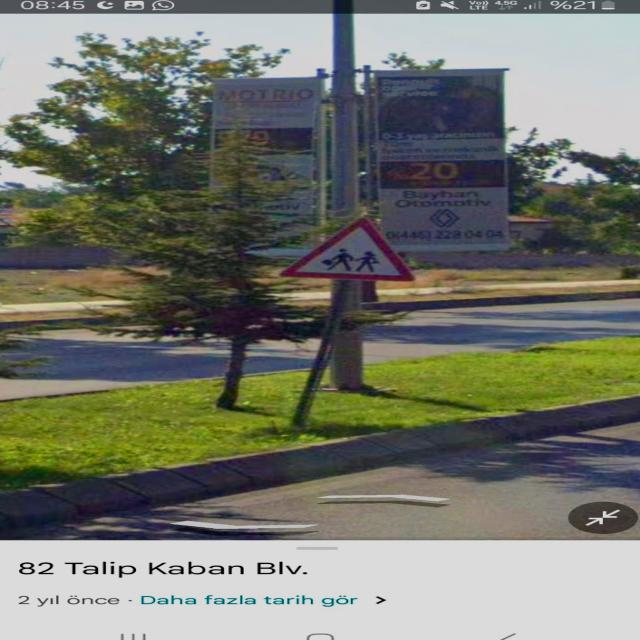okul_gecidi: (277, 215, 418, 281)
